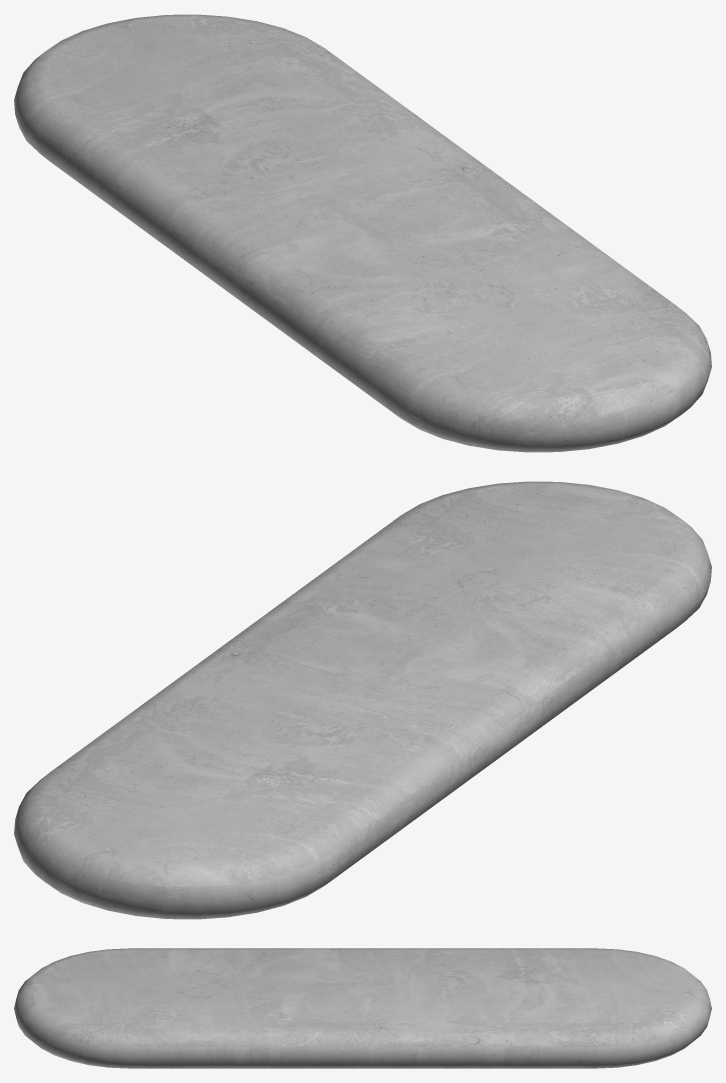
File: B_Item.06.glb
3 views of the same model, one above another, from view 1: azimuth 30°, elevation 25°; view 2: azimuth 150°, elevation 25°; view 3: azimuth 270°, elevation 25° (orthographic). The views are drawn at different scales.
Parts seen in each view (by area): view 1: B.Item.06; view 2: B.Item.06; view 3: B.Item.06.
Boxes of the visible parts, x1=… form: B.Item.06: x1=14, y1=14, x2=711, y2=452; B.Item.06: x1=14, y1=481, x2=711, y2=919; B.Item.06: x1=14, y1=948, x2=711, y2=1068.
Bounding box in the file's own units: 0.1163 × 0.02 × 0.3522.
Materials: 1 (1 with a texture image).
